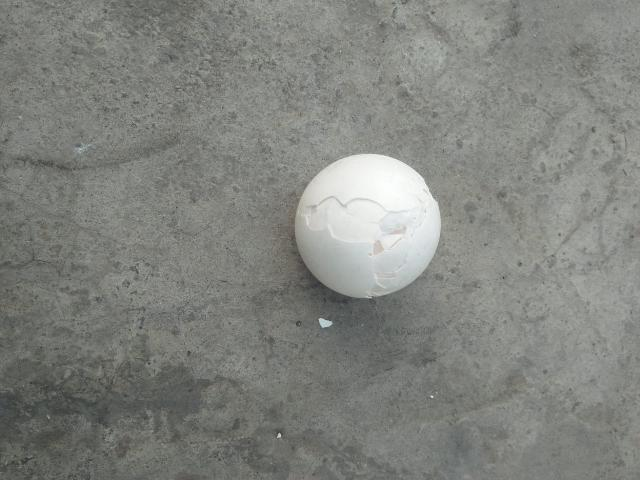Roto: (294, 152, 442, 299)
